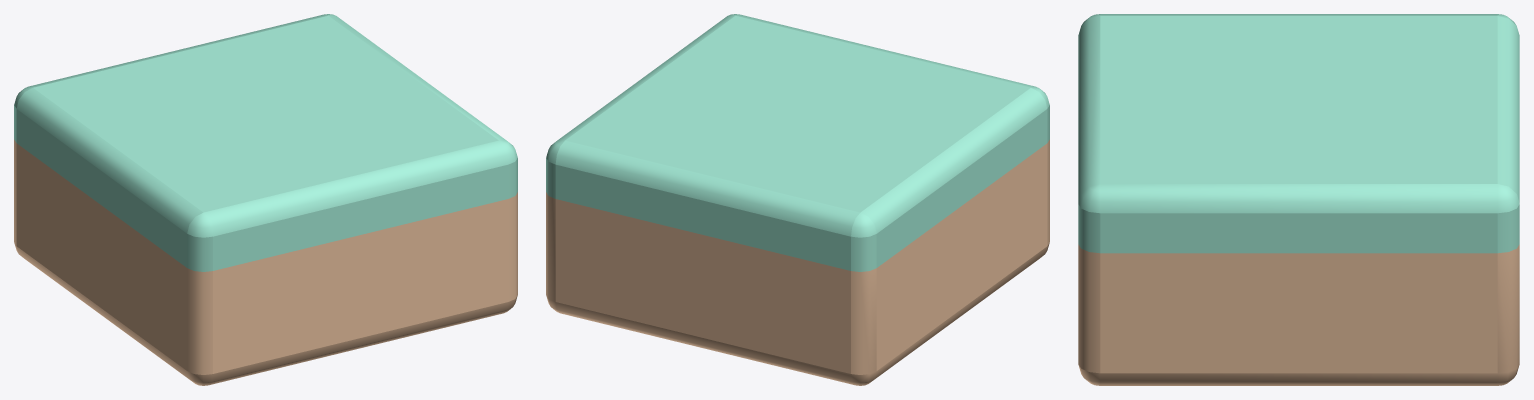
3 views of the same model, side by side, from view 1: azimuth 30°, elevation 25°; view 2: azimuth 150°, elevation 25°; view 3: azimuth 270°, elevation 25° (orthographic). The views are drawn at different scales.
Visible parts, largest first — view 1: blockRoundedLarge; view 2: blockRoundedLarge; view 3: blockRoundedLarge.
Boxes of the visible parts, <box> form: blockRoundedLarge: <box>14,14,517,385</box>; blockRoundedLarge: <box>546,14,1049,385</box>; blockRoundedLarge: <box>1078,14,1519,385</box>.
Size of the model in its own units: 2 by 1 by 2.
